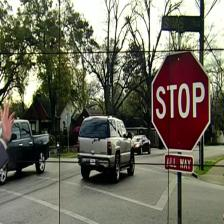Stop-sign: (150, 47, 214, 174)
